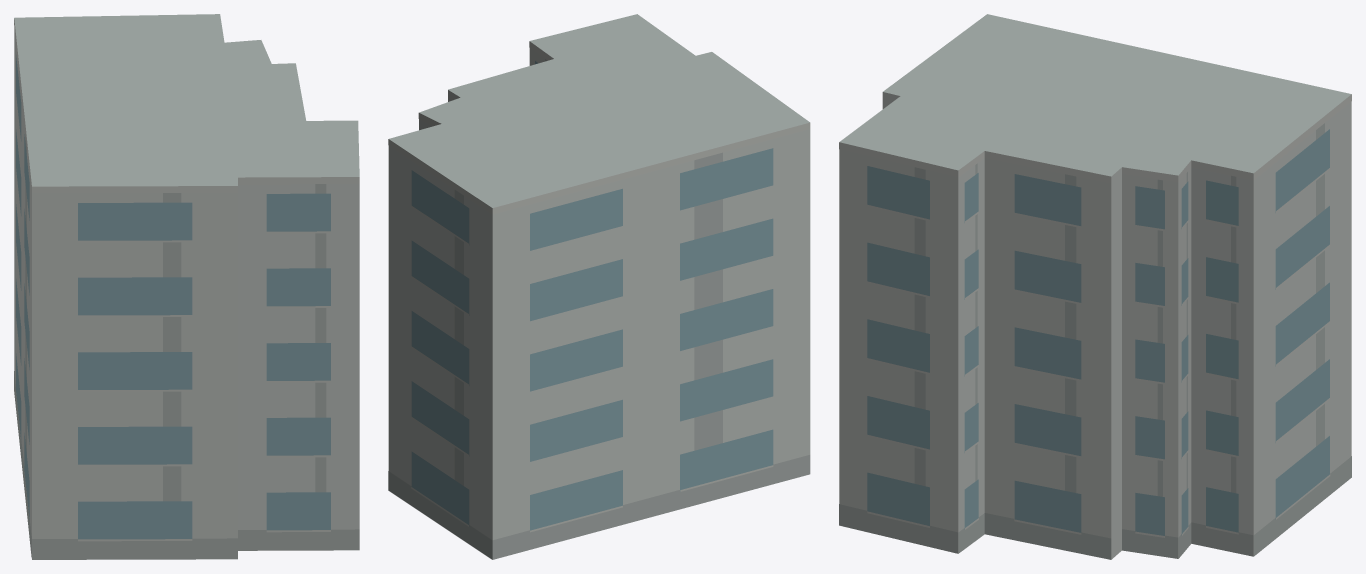
Rendered from residential-2af0e4c9-c666-4bf8-aa67-8478f6ece7a6.glb.
The picture shows the model from 3 angles, left to right: view 1: azimuth 30°, elevation 25°; view 2: azimuth 150°, elevation 25°; view 3: azimuth 270°, elevation 25°; orthographic projection. The views are drawn at different scales.
Parts seen in each view (by area): view 1: residential-2af0e4c9-c666-4bf8-aa67-8478f6ece7a6.tmp; view 2: residential-2af0e4c9-c666-4bf8-aa67-8478f6ece7a6.tmp; view 3: residential-2af0e4c9-c666-4bf8-aa67-8478f6ece7a6.tmp.
Boxes of the visible parts, x1=… form: residential-2af0e4c9-c666-4bf8-aa67-8478f6ece7a6.tmp: x1=14, y1=14, x2=359, y2=559; residential-2af0e4c9-c666-4bf8-aa67-8478f6ece7a6.tmp: x1=388, y1=14, x2=810, y2=559; residential-2af0e4c9-c666-4bf8-aa67-8478f6ece7a6.tmp: x1=839, y1=14, x2=1351, y2=559.
Bounding box in the file's own units: 12.01 × 13.2 × 16.01.
